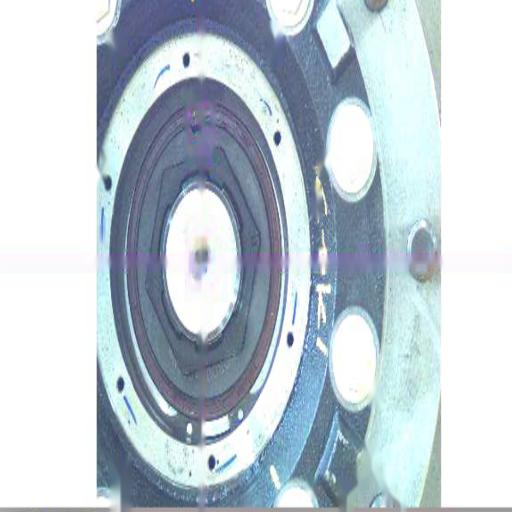center: (196, 242, 215, 272)
notch: (187, 122, 203, 142)
